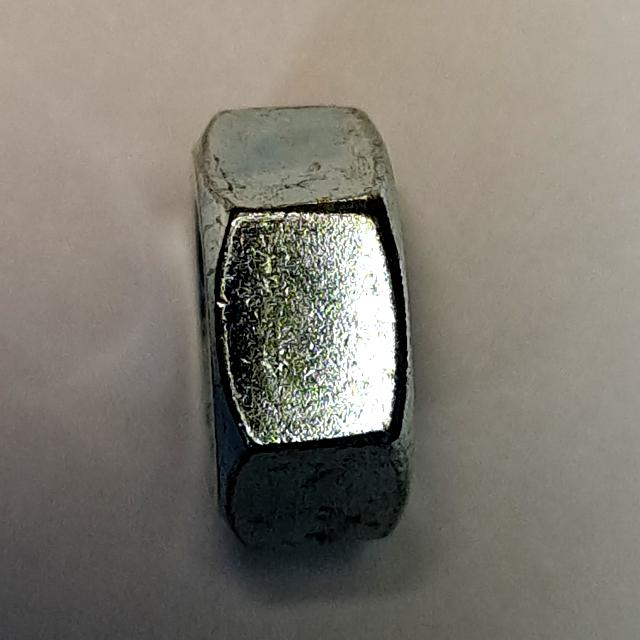Side_Excellent: (175, 89, 443, 573)
